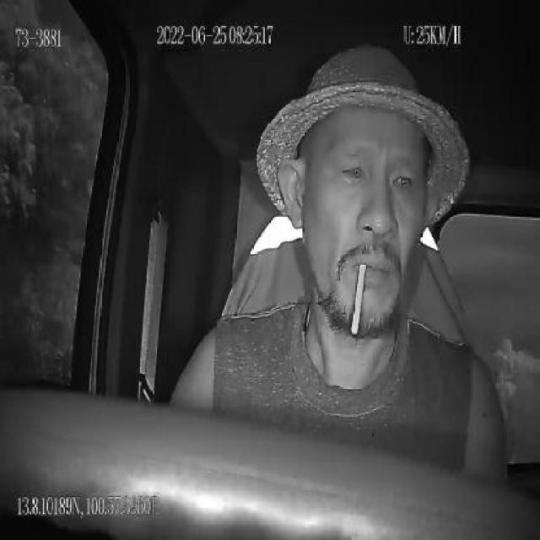smoking: (348, 260, 368, 337)
